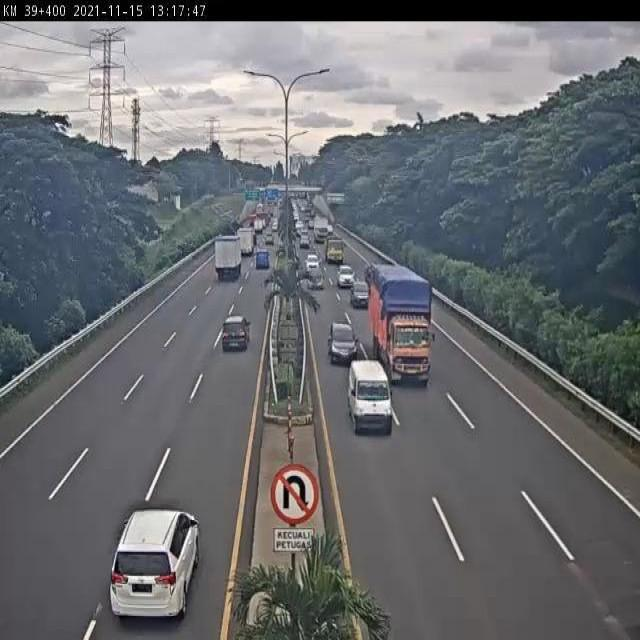car: (106, 509, 201, 620), (328, 319, 358, 369), (220, 312, 251, 355), (350, 280, 369, 307), (306, 265, 325, 291), (336, 264, 356, 288)
truck: (369, 265, 434, 383), (347, 357, 394, 439), (212, 235, 244, 284)
